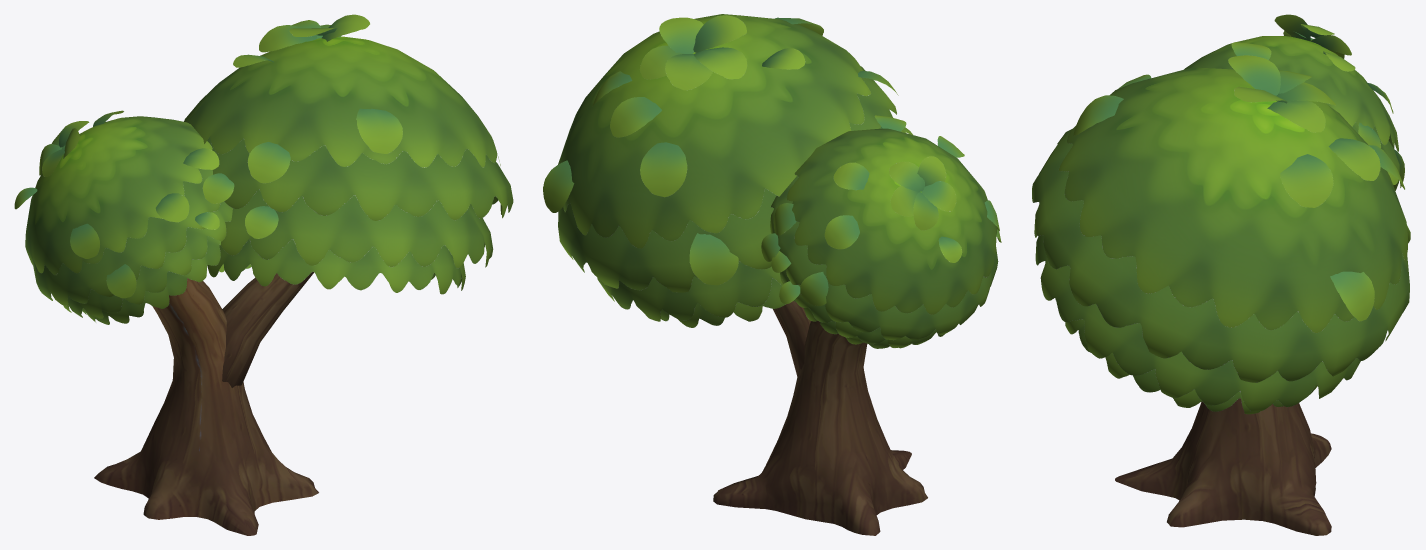
The model's file is Tree_broadleaf03.fbx.
3 views of the same model, side by side, from view 1: azimuth 30°, elevation 25°; view 2: azimuth 150°, elevation 25°; view 3: azimuth 270°, elevation 25° (orthographic). The views are drawn at different scales.
Visible parts, largest first — view 1: Sphere.011, Sphere.038, Sphere.009; view 2: Sphere.011, Sphere.038, Sphere.009; view 3: Sphere.011, Sphere.009, Sphere.038.
Part boxes in pixels (x1,y1,x2,y2): Sphere.011: (184,14,513,294); Sphere.038: (14,110,232,324); Sphere.009: (94,272,318,535); Sphere.011: (543,14,912,327); Sphere.038: (761,115,1001,348); Sphere.009: (713,301,927,535); Sphere.011: (1032,42,1410,414); Sphere.009: (1115,398,1331,535); Sphere.038: (1184,14,1404,190).
Size of the model in its own units: 7.96 by 7.89 by 5.58.
